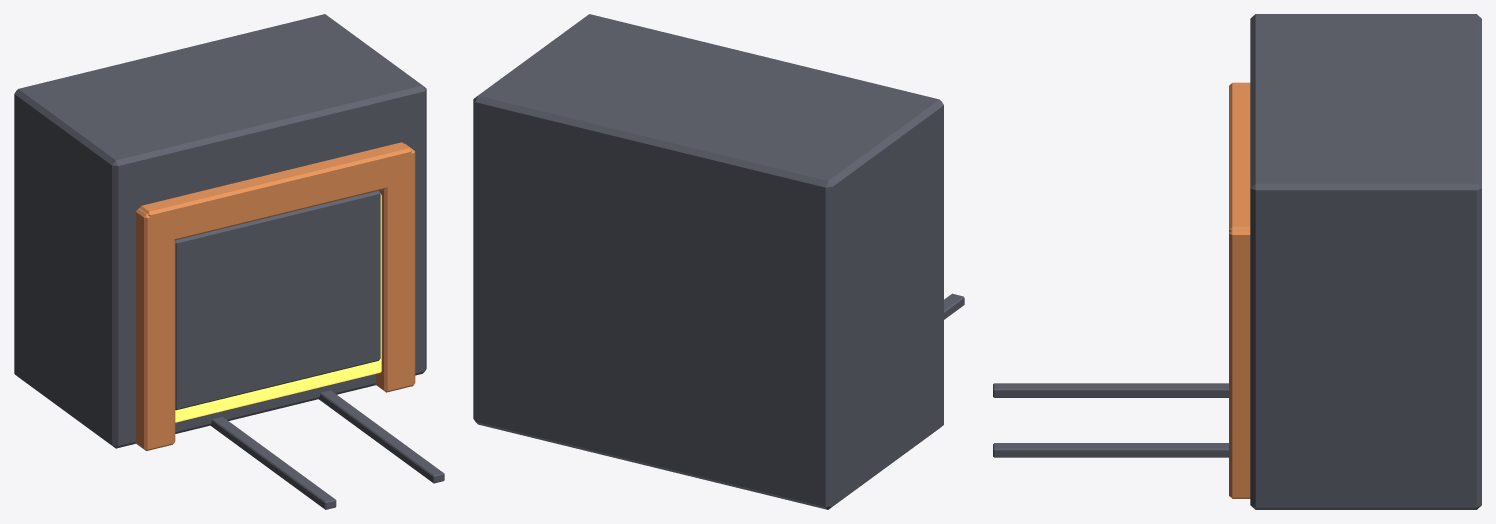
Rendered from prop_duto_sangria_estacao14.glb.
3 renders of one model, left to right at view 1: azimuth 30°, elevation 25°; view 2: azimuth 150°, elevation 25°; view 3: azimuth 270°, elevation 25°, orthographic. The views are drawn at different scales.
Visible parts, largest first — view 1: Chute_Housing, Hatch_Plate, Chute_BezelTop, Chute_BezelL, Chute_BezelR, Chute_Mouth, LoadRail_0.55, LoadRail_-0.55; view 2: Chute_Housing; view 3: Chute_Housing, Chute_BezelR, LoadRail_-0.55, LoadRail_0.55, Chute_BezelTop.
Part boxes in pixels (x1=…): Chute_Housing: x1=14, y1=14, x2=426, y2=448; Hatch_Plate: x1=175, y1=191, x2=380, y2=410; Chute_BezelTop: x1=139, y1=142, x2=411, y2=244; Chute_BezelL: x1=135, y1=208, x2=175, y2=450; Chute_BezelR: x1=375, y1=143, x2=415, y2=392; Chute_Mouth: x1=175, y1=193, x2=381, y2=422; LoadRail_0.55: x1=318, y1=390, x2=444, y2=483; LoadRail_-0.55: x1=210, y1=416, x2=336, y2=509; Chute_Housing: x1=473, y1=14, x2=943, y2=509; Chute_Housing: x1=1250, y1=14, x2=1481, y2=509; Chute_BezelR: x1=1229, y1=230, x2=1250, y2=498; LoadRail_-0.55: x1=993, y1=383, x2=1228, y2=397; LoadRail_0.55: x1=993, y1=443, x2=1228, y2=457; Chute_BezelTop: x1=1229, y1=82, x2=1250, y2=231.
Bounding box in the file's own units: 3.2 × 2.8 × 3.8.
